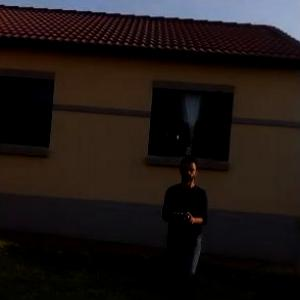follow: (155, 150, 210, 299)
